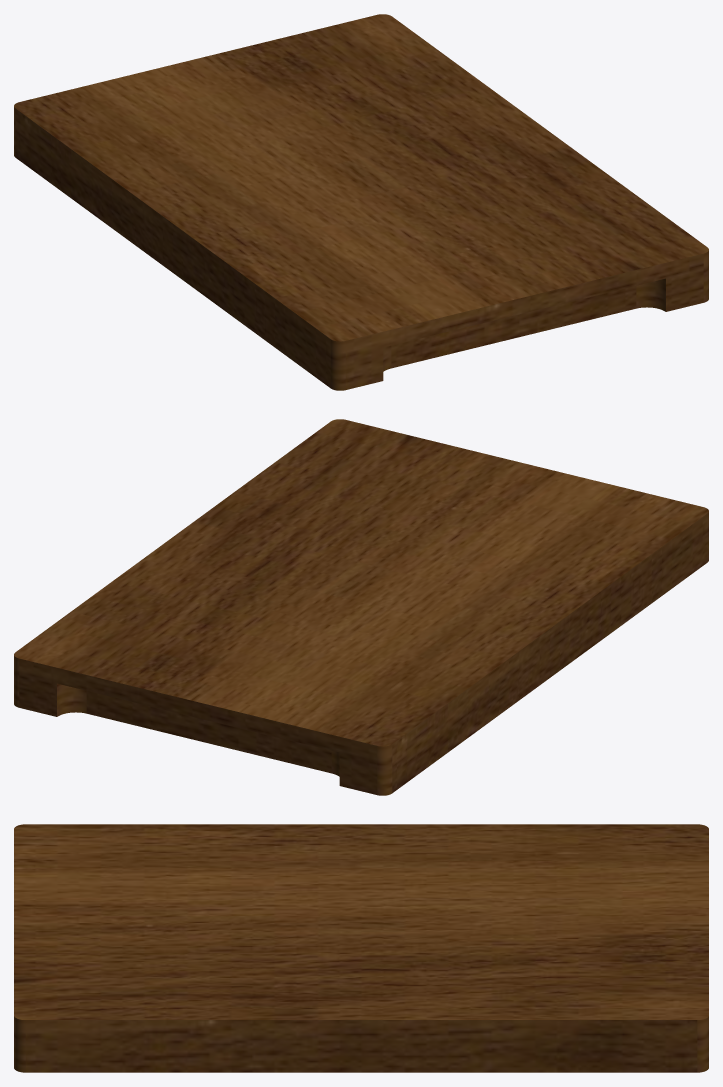
The model's file is tabla-de-picar-puy-talla-s.glb.
3 renders of one model, top to bottom at view 1: azimuth 30°, elevation 25°; view 2: azimuth 150°, elevation 25°; view 3: azimuth 270°, elevation 25°, orthographic. The views are drawn at different scales.
Size of the model in its own units: 0.2 by 0.025 by 0.3.
2 materials, 2 textured.
